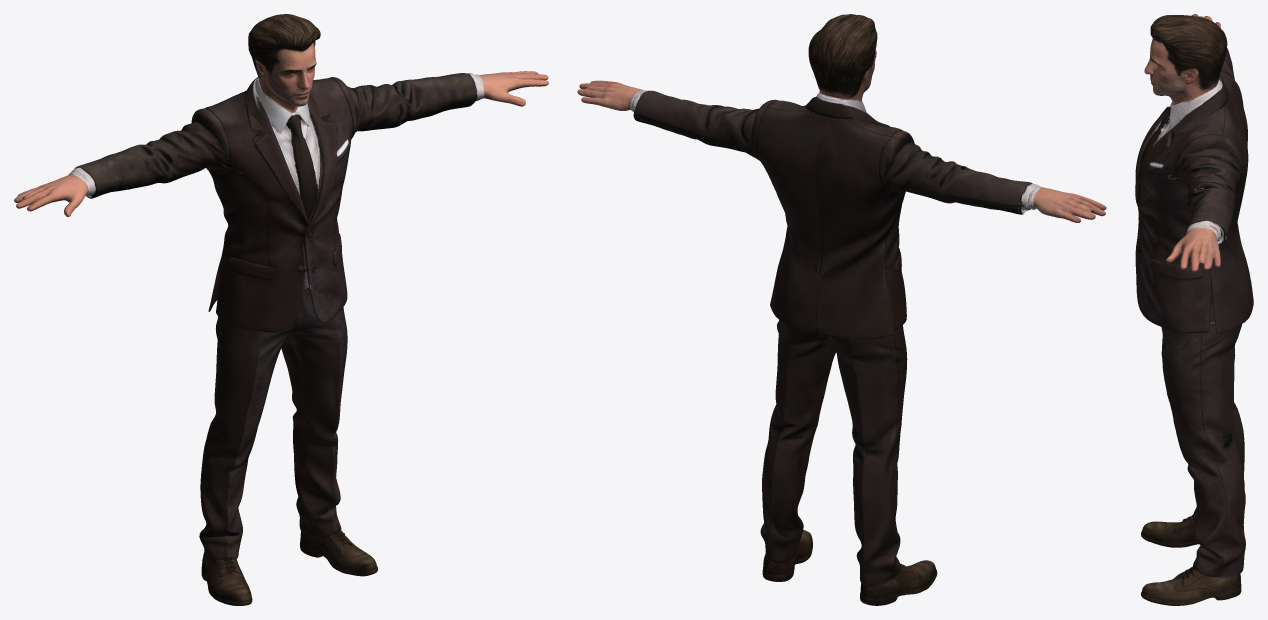
File: npc_business.glb
The picture shows the model from 3 angles, left to right: view 1: azimuth 30°, elevation 25°; view 2: azimuth 150°, elevation 25°; view 3: azimuth 270°, elevation 25°; orthographic projection.
Visible parts, largest first — view 1: world; view 2: world; view 3: world.
Part boxes in pixels (x1,y1,x2,y2): world: [14, 14, 548, 605]; world: [577, 14, 1106, 605]; world: [1135, 14, 1253, 605].
Size of the model in its own units: 1.99 by 2 by 0.3895.
Materials: 1 (1 with a texture image).
